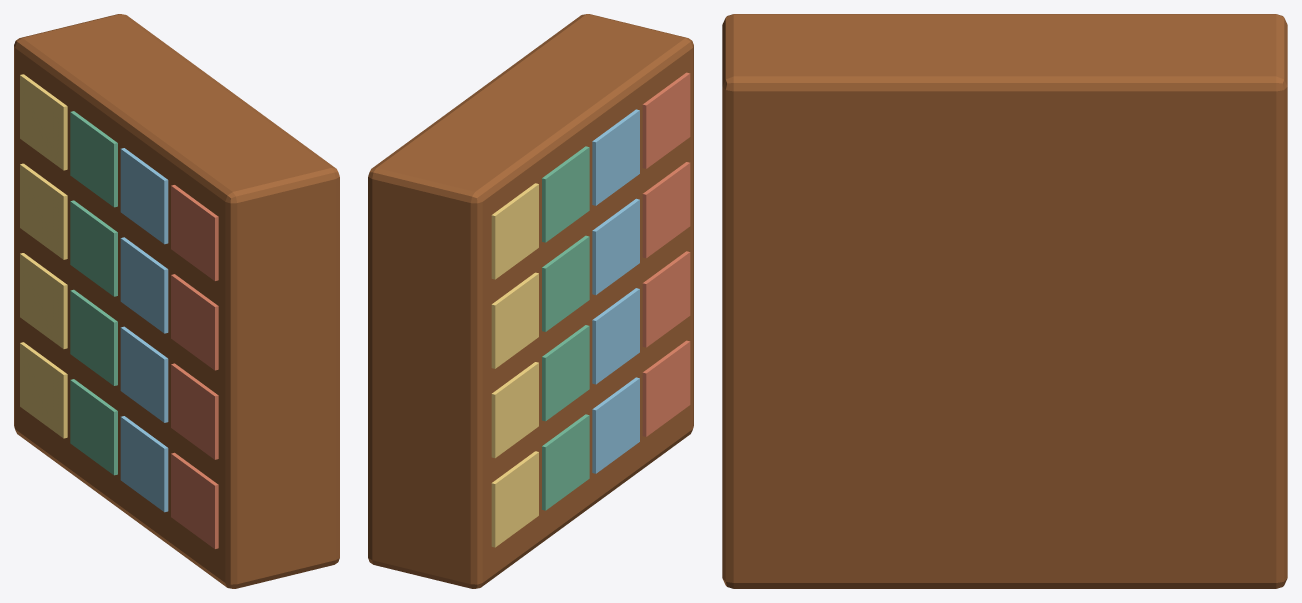
File: int_rakBuku.fbx
The picture shows the model from 3 angles, left to right: view 1: azimuth 30°, elevation 25°; view 2: azimuth 150°, elevation 25°; view 3: azimuth 270°, elevation 25°; orthographic projection. The views are drawn at different scales.
Visible parts, largest first — view 1: int_rakBuku; view 2: int_rakBuku; view 3: int_rakBuku.
Part boxes in pixels (x1=…): int_rakBuku: x1=14, y1=14, x2=339, y2=588; int_rakBuku: x1=368, y1=14, x2=693, y2=588; int_rakBuku: x1=722, y1=14, x2=1287, y2=588.
Size of the model in its own units: 62 by 200 by 200.
Materials: 1 (1 with a texture image).
